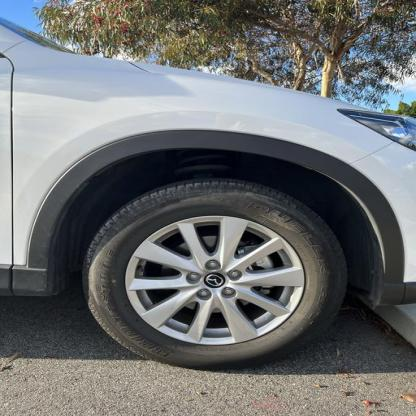Tire: (84, 177, 353, 368)
